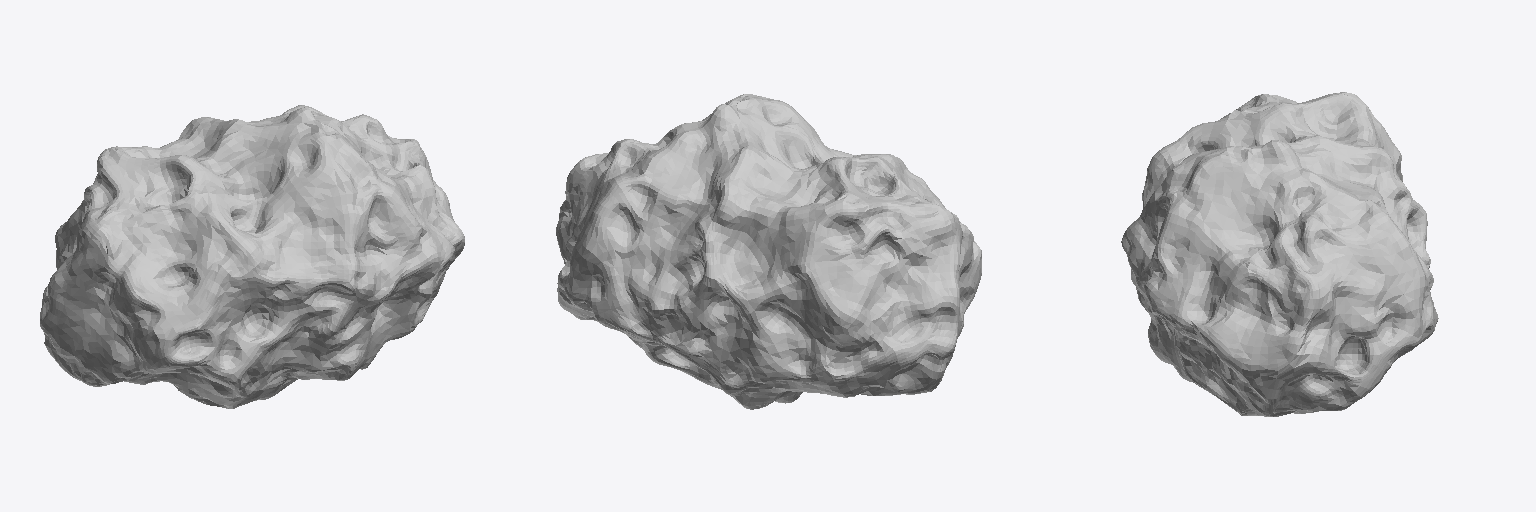
File: asteroid.obj
The picture shows the model from 3 angles: view 1: azimuth 30°, elevation 25°; view 2: azimuth 150°, elevation 25°; view 3: azimuth 270°, elevation 25°; orthographic projection.
Visible parts, largest first — view 1: Asteroid_1a; view 2: Asteroid_1a; view 3: Asteroid_1a.
Boxes of the visible parts, x1,y1,x2,y2 form: Asteroid_1a: [40, 105, 464, 408]; Asteroid_1a: [556, 94, 981, 409]; Asteroid_1a: [1121, 92, 1438, 416].
Size of the model in its own units: 3.7 by 2.43 by 2.53.